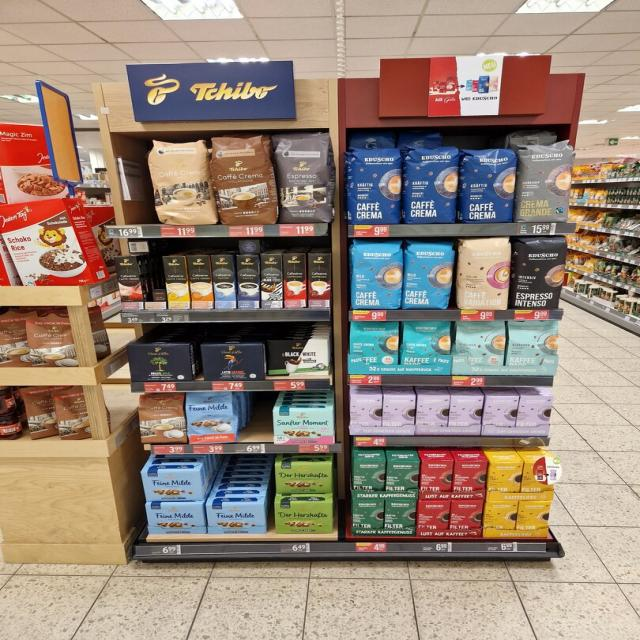BM Gemahlen: (127, 344, 193, 383)
BW Gemahlen: (268, 340, 331, 377)
CC Mild: (147, 140, 217, 224)
CC Vollmundig: (138, 394, 185, 443)
CC Vollmundig 36 Pads: (212, 139, 278, 224)
Espresso M Art: (275, 134, 336, 223)
FM 36 Pads: (185, 393, 237, 444)
FM Gemahlen: (204, 501, 268, 534), (144, 502, 206, 535), (138, 471, 205, 501)
Herzhatfe Mundig: (274, 461, 334, 494), (274, 501, 334, 534)
LG Gemahlen: (199, 344, 266, 380)
SM Gemahlen: (272, 405, 335, 445)
Simo CC Colombia: (115, 256, 144, 310)
Simo CCMild bigpack: (162, 256, 190, 308)
Simo CCVollmundig bigpack: (187, 255, 214, 308)
Simo Es Brazil: (283, 253, 306, 308)
Simo Es Caramel: (308, 253, 330, 307)
Simo Es Elegant: (261, 254, 282, 308)
Simo Es Kraft: (238, 255, 260, 309)
Simo Es Vanilla: (212, 254, 235, 308)
